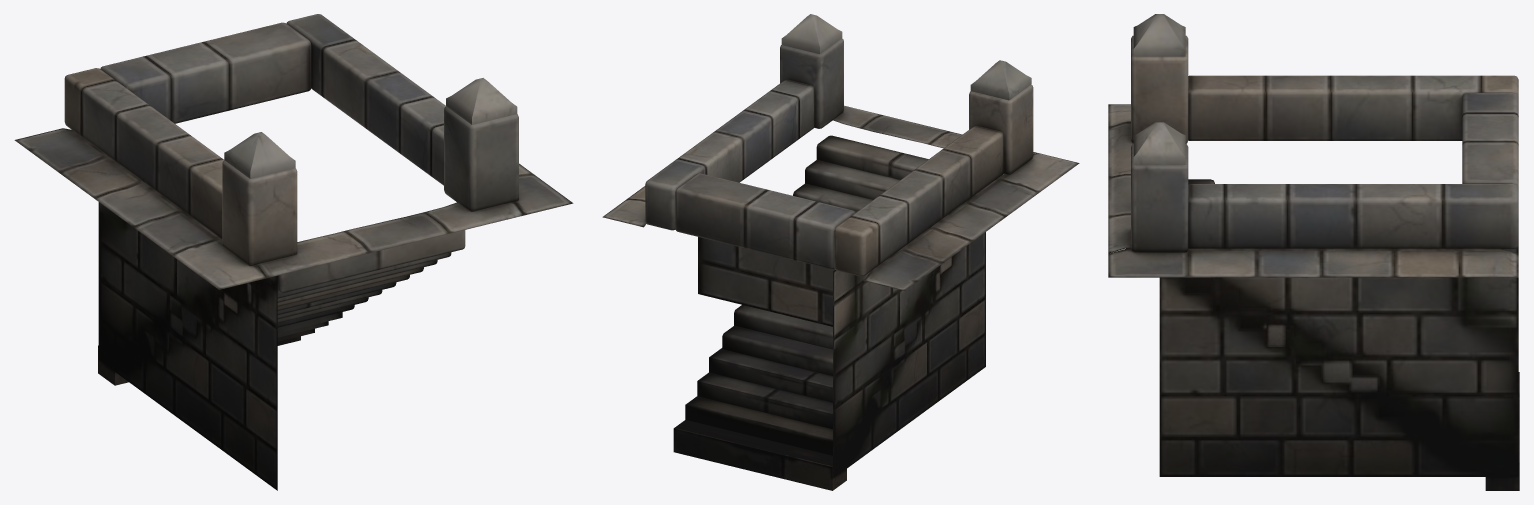
The model's file is stairs_down.glb.
The picture shows the model from 3 angles, left to right: view 1: azimuth 30°, elevation 25°; view 2: azimuth 150°, elevation 25°; view 3: azimuth 270°, elevation 25°; orthographic projection. The views are drawn at different scales.
Visible parts, largest first — view 1: stairs_down; view 2: stairs_down; view 3: stairs_down.
Boxes of the visible parts, bbox=[...] form: stairs_down: bbox=[14, 14, 573, 490]; stairs_down: bbox=[602, 14, 1079, 490]; stairs_down: bbox=[1108, 14, 1519, 490].
Bounding box in the file's own units: 4 × 4.06 × 4.01.
Materials: 1 (1 with a texture image).
